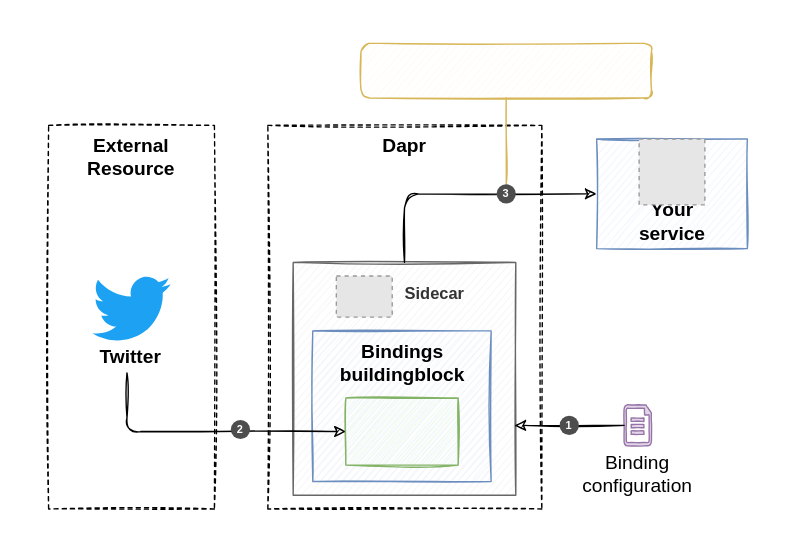
The diagram is 797 pixels wide and 548 high, and some of its shapes have lost their labels. Grey dashed boxes stand in for pictures. The centre of each missing label's shape, as x and y in pixels:
"POST http://localhost:6000/tweet" goes at (x=505, y=70).
"Twitter component" goes at (x=401, y=431).
